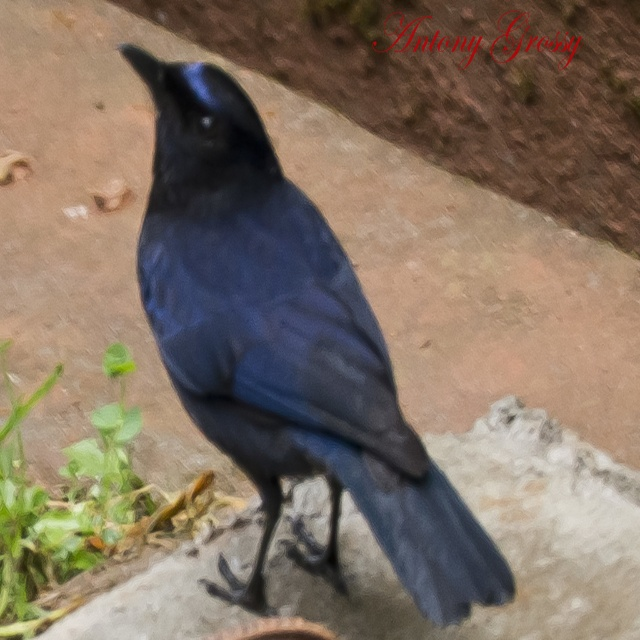Raven: (124, 49, 486, 625)
